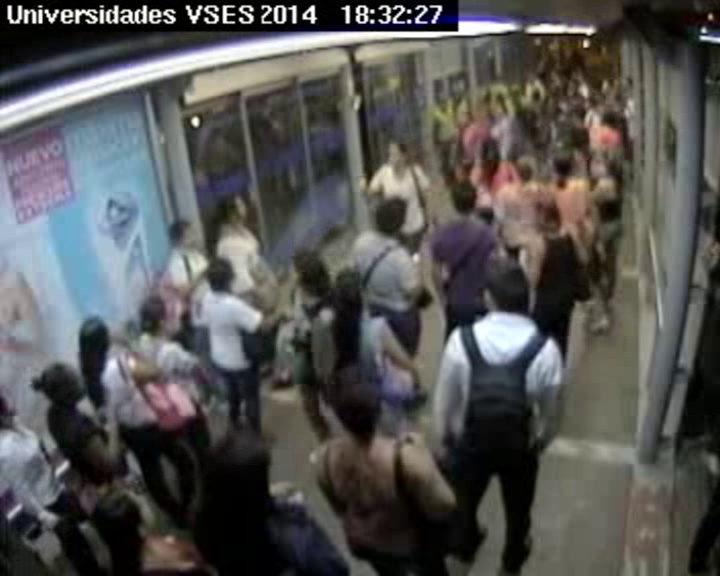person: (204, 432, 278, 511), (93, 486, 158, 551), (330, 367, 387, 435), (482, 261, 529, 315), (68, 420, 113, 474), (42, 363, 84, 407), (287, 250, 325, 288), (76, 313, 112, 351), (334, 274, 366, 310), (376, 197, 407, 234), (218, 191, 249, 225), (205, 258, 236, 292), (140, 300, 171, 333), (452, 180, 481, 211), (536, 200, 564, 229), (169, 220, 195, 250), (387, 142, 411, 170), (554, 149, 578, 174), (480, 138, 503, 163), (515, 154, 537, 180), (329, 222, 352, 246), (594, 153, 615, 176), (568, 129, 584, 147), (475, 110, 490, 128), (570, 66, 585, 83), (572, 107, 587, 124), (492, 99, 506, 116), (605, 111, 619, 126), (562, 81, 576, 95), (589, 92, 603, 104), (541, 101, 553, 114), (463, 111, 475, 124), (490, 73, 502, 86), (525, 71, 536, 83), (549, 70, 560, 81), (532, 90, 542, 101), (459, 93, 469, 103), (439, 101, 448, 111), (625, 78, 634, 87), (606, 71, 614, 80)
